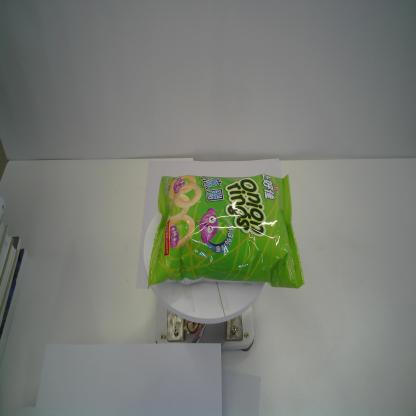Puffed Food: (146, 172, 307, 290)
